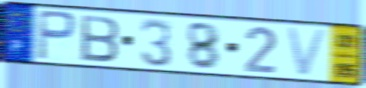2: (242, 25, 278, 75)
3: (138, 16, 173, 69)
8: (185, 21, 222, 71)
B: (79, 13, 122, 64)
P: (35, 8, 79, 63)
V: (284, 25, 331, 79)
